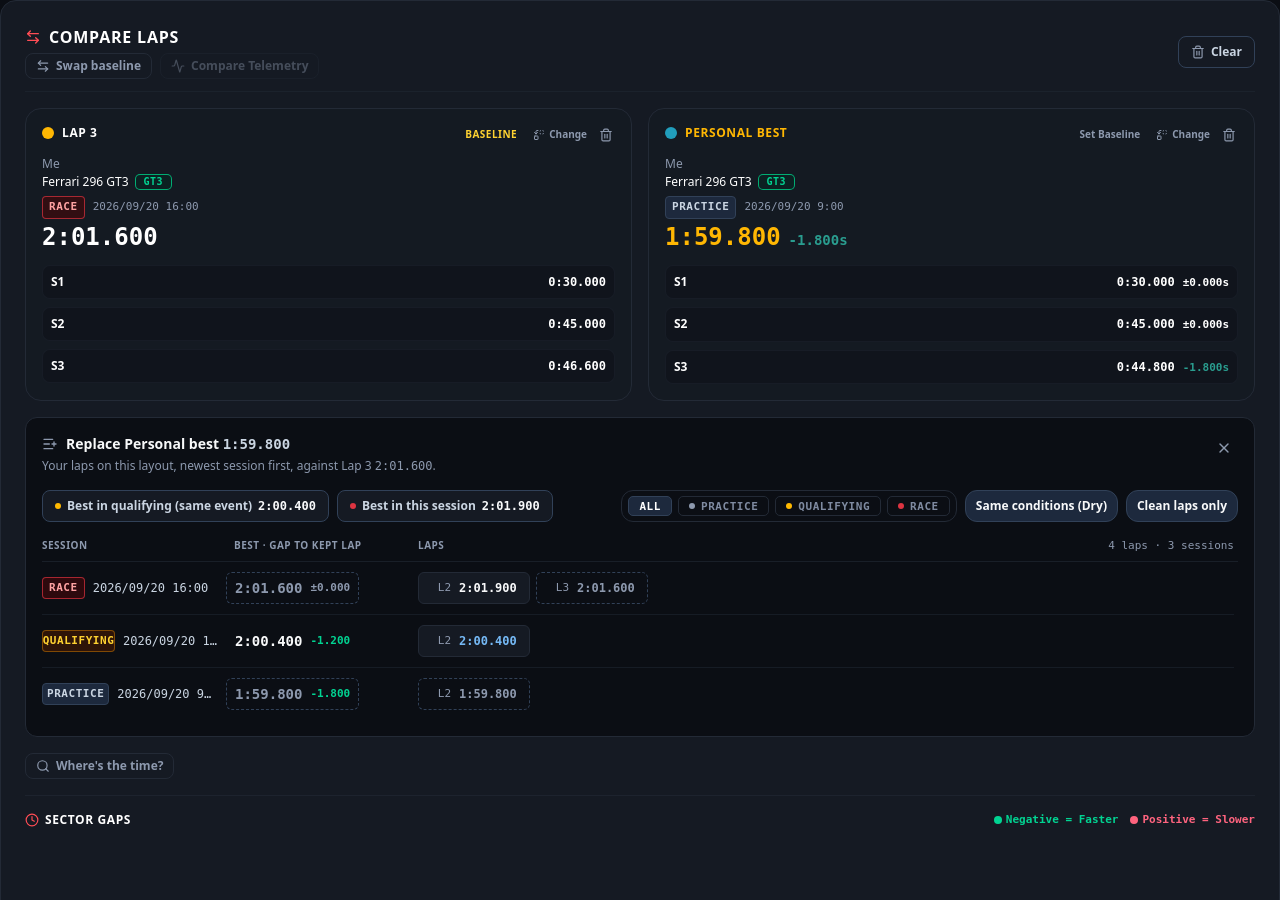
CompareLapPicker in the compare card › picks a session's best lap from the best column
Click the button named "Best lap 2 2:00.400, -1.200" at x=293, y=641, box [226,625,359,657]
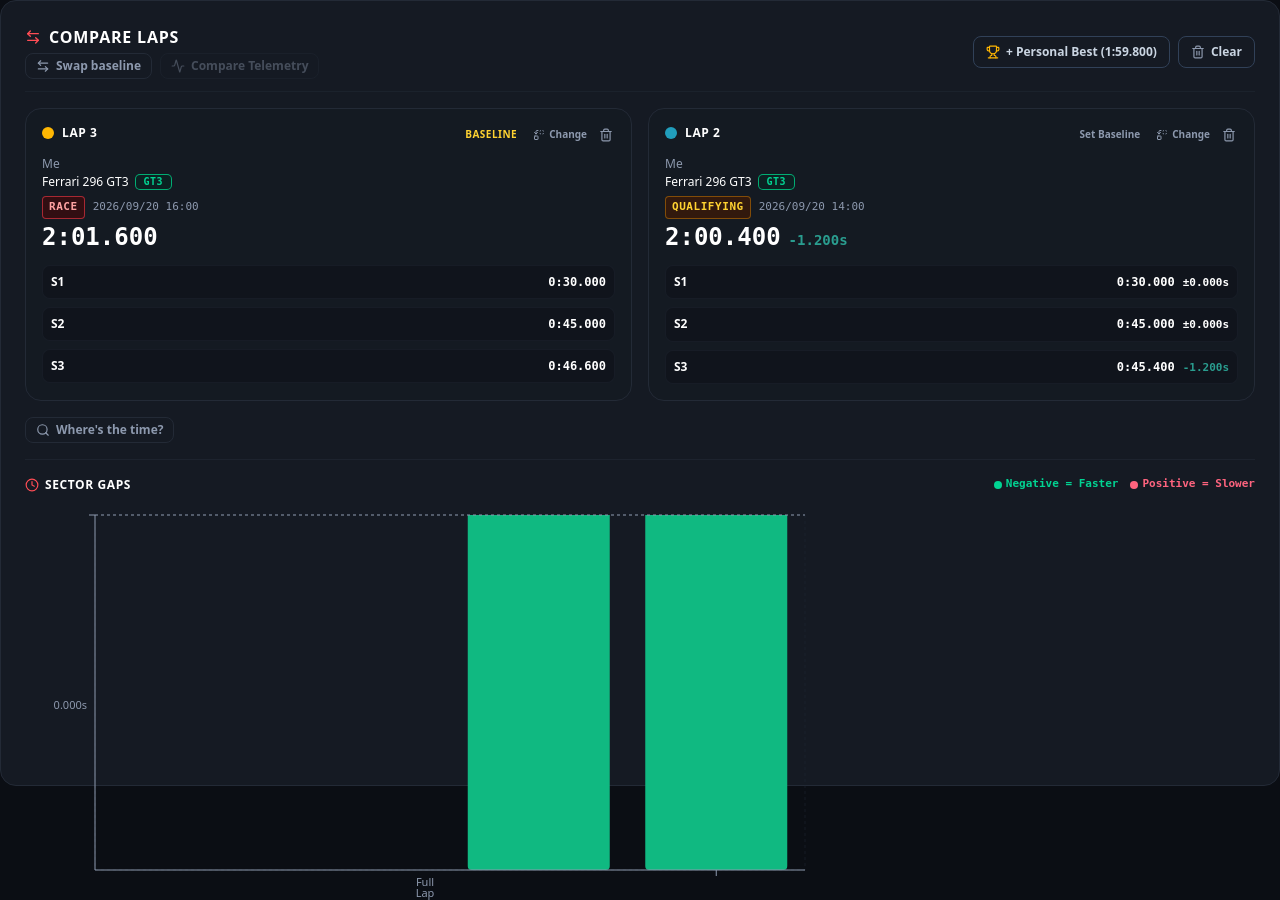
Expected: the heading "2:00.400" is shown, [665,220,781,252]
